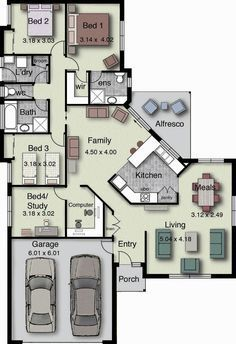wall: (8, 226, 11, 341), (112, 255, 116, 340), (6, 1, 122, 3), (232, 226, 236, 278), (64, 122, 67, 187), (8, 184, 67, 187), (6, 235, 65, 238), (56, 235, 115, 238), (232, 158, 236, 197), (1, 52, 51, 55), (144, 231, 147, 278), (143, 273, 169, 278), (66, 103, 128, 105), (211, 273, 235, 278), (119, 49, 124, 72), (65, 1, 67, 57), (102, 204, 105, 238), (1, 129, 4, 162), (130, 202, 179, 204), (179, 158, 198, 163), (48, 53, 51, 84), (47, 100, 50, 131), (65, 69, 67, 112), (65, 200, 67, 238), (88, 71, 90, 105), (1, 97, 34, 99), (1, 81, 34, 83), (120, 1, 123, 21), (1, 26, 3, 55), (8, 182, 12, 195), (1, 80, 4, 87)
